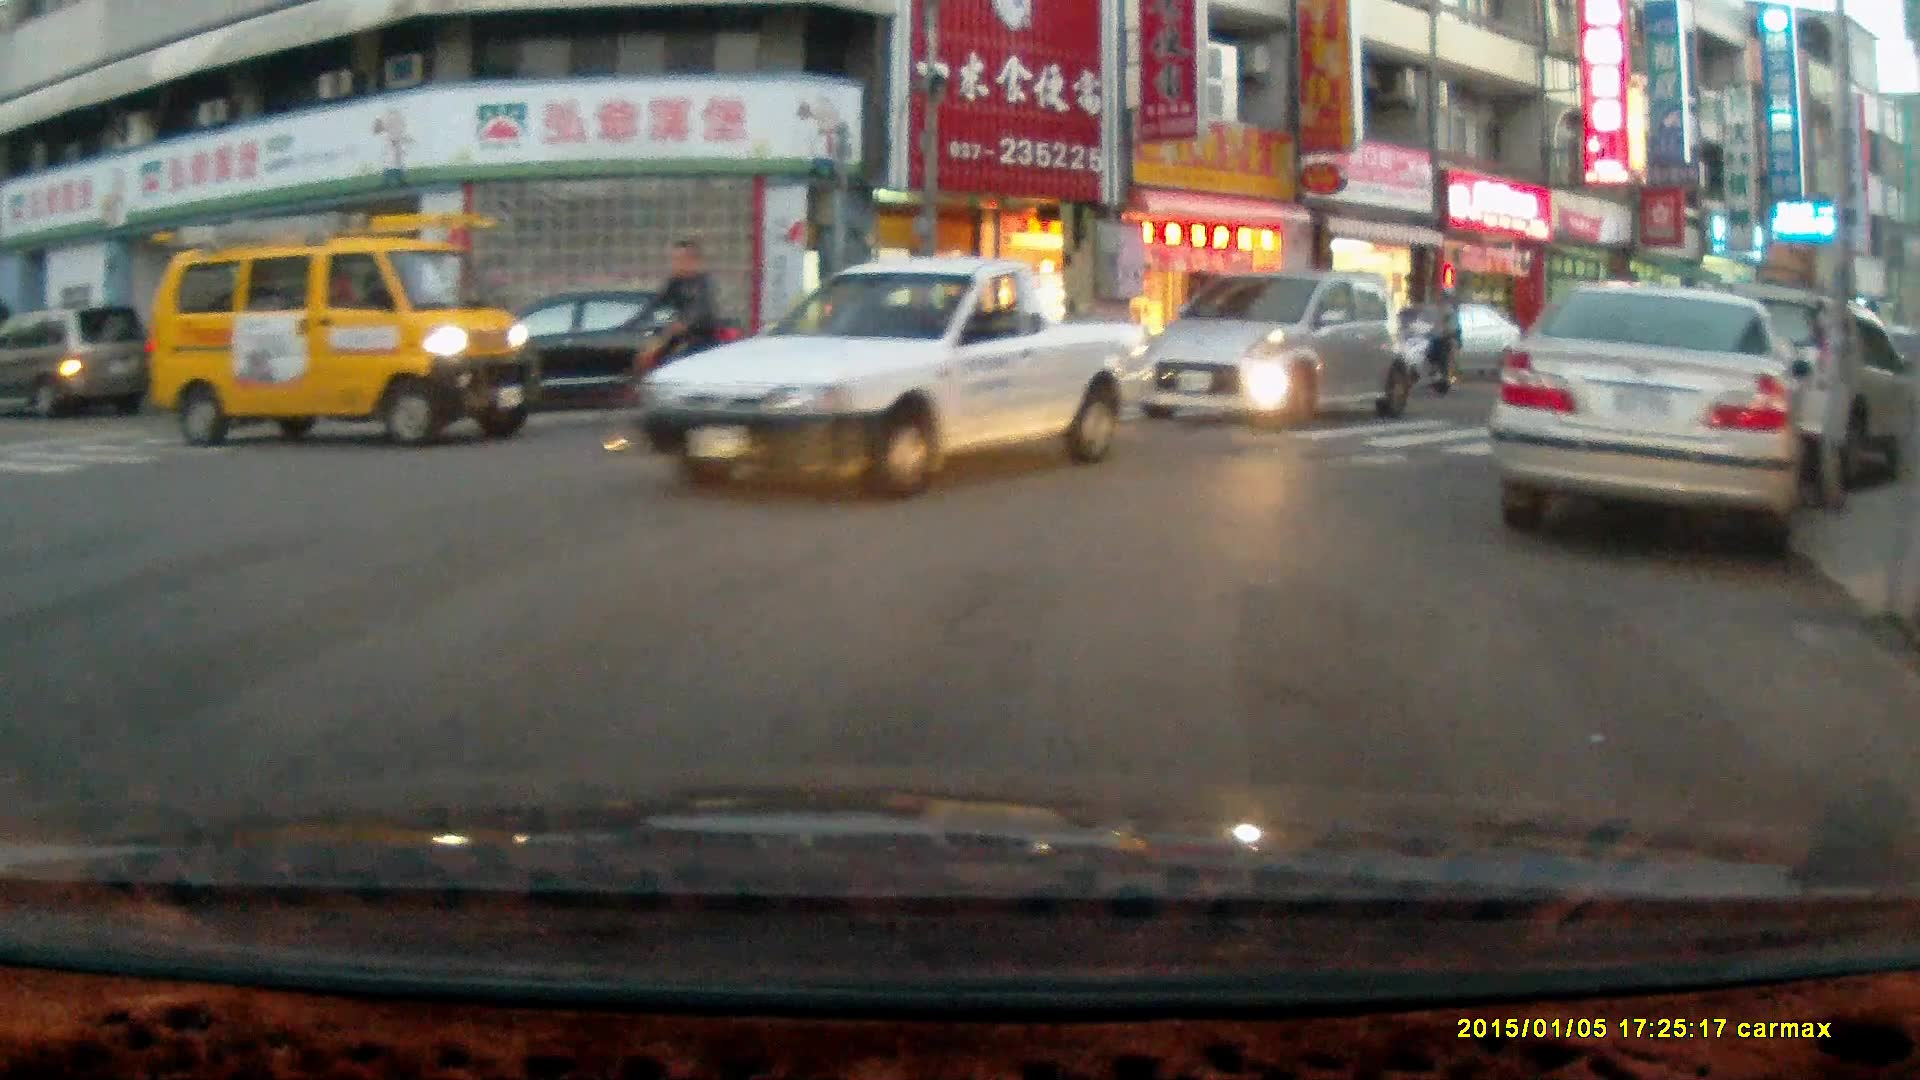rider: (592, 238, 751, 454), (1394, 278, 1462, 398)
vehicle: (639, 254, 1152, 501), (1492, 278, 1823, 567), (146, 213, 536, 451), (1643, 292, 1919, 496), (1134, 271, 1414, 431), (445, 288, 749, 415), (1, 305, 148, 422)
